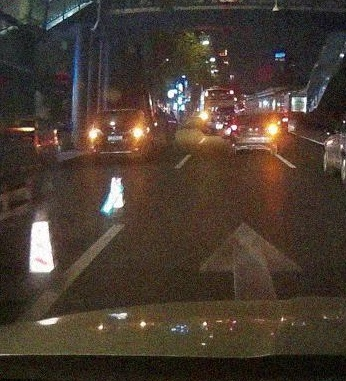L_light: (89, 129, 98, 139), (232, 125, 239, 133)
R_light: (133, 128, 143, 138), (268, 124, 278, 134)
T_light: (114, 111, 124, 114), (249, 116, 257, 118)
night-no: (88, 108, 144, 162)
night-right: (231, 114, 278, 155)
